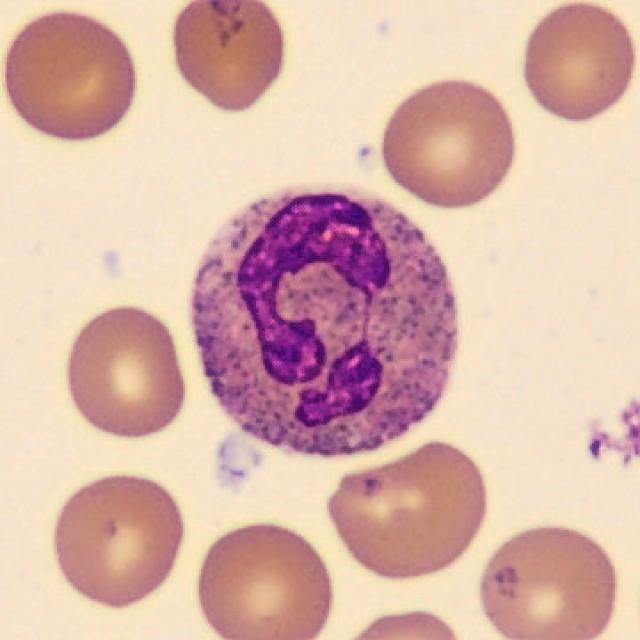Neutrofilo segmentado: (190, 185, 459, 457)
